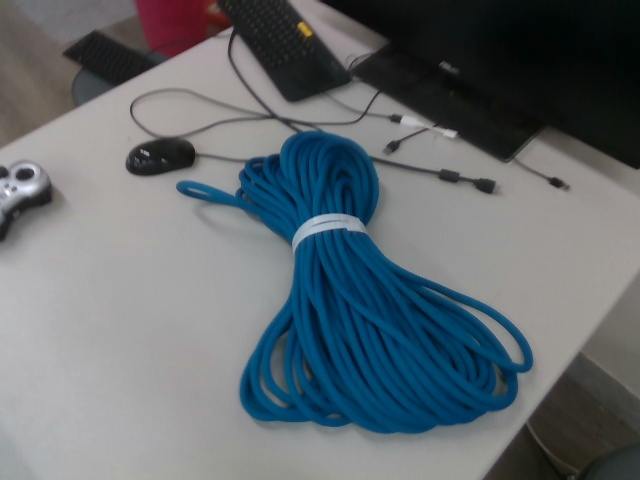rope: (172, 127, 539, 438)
